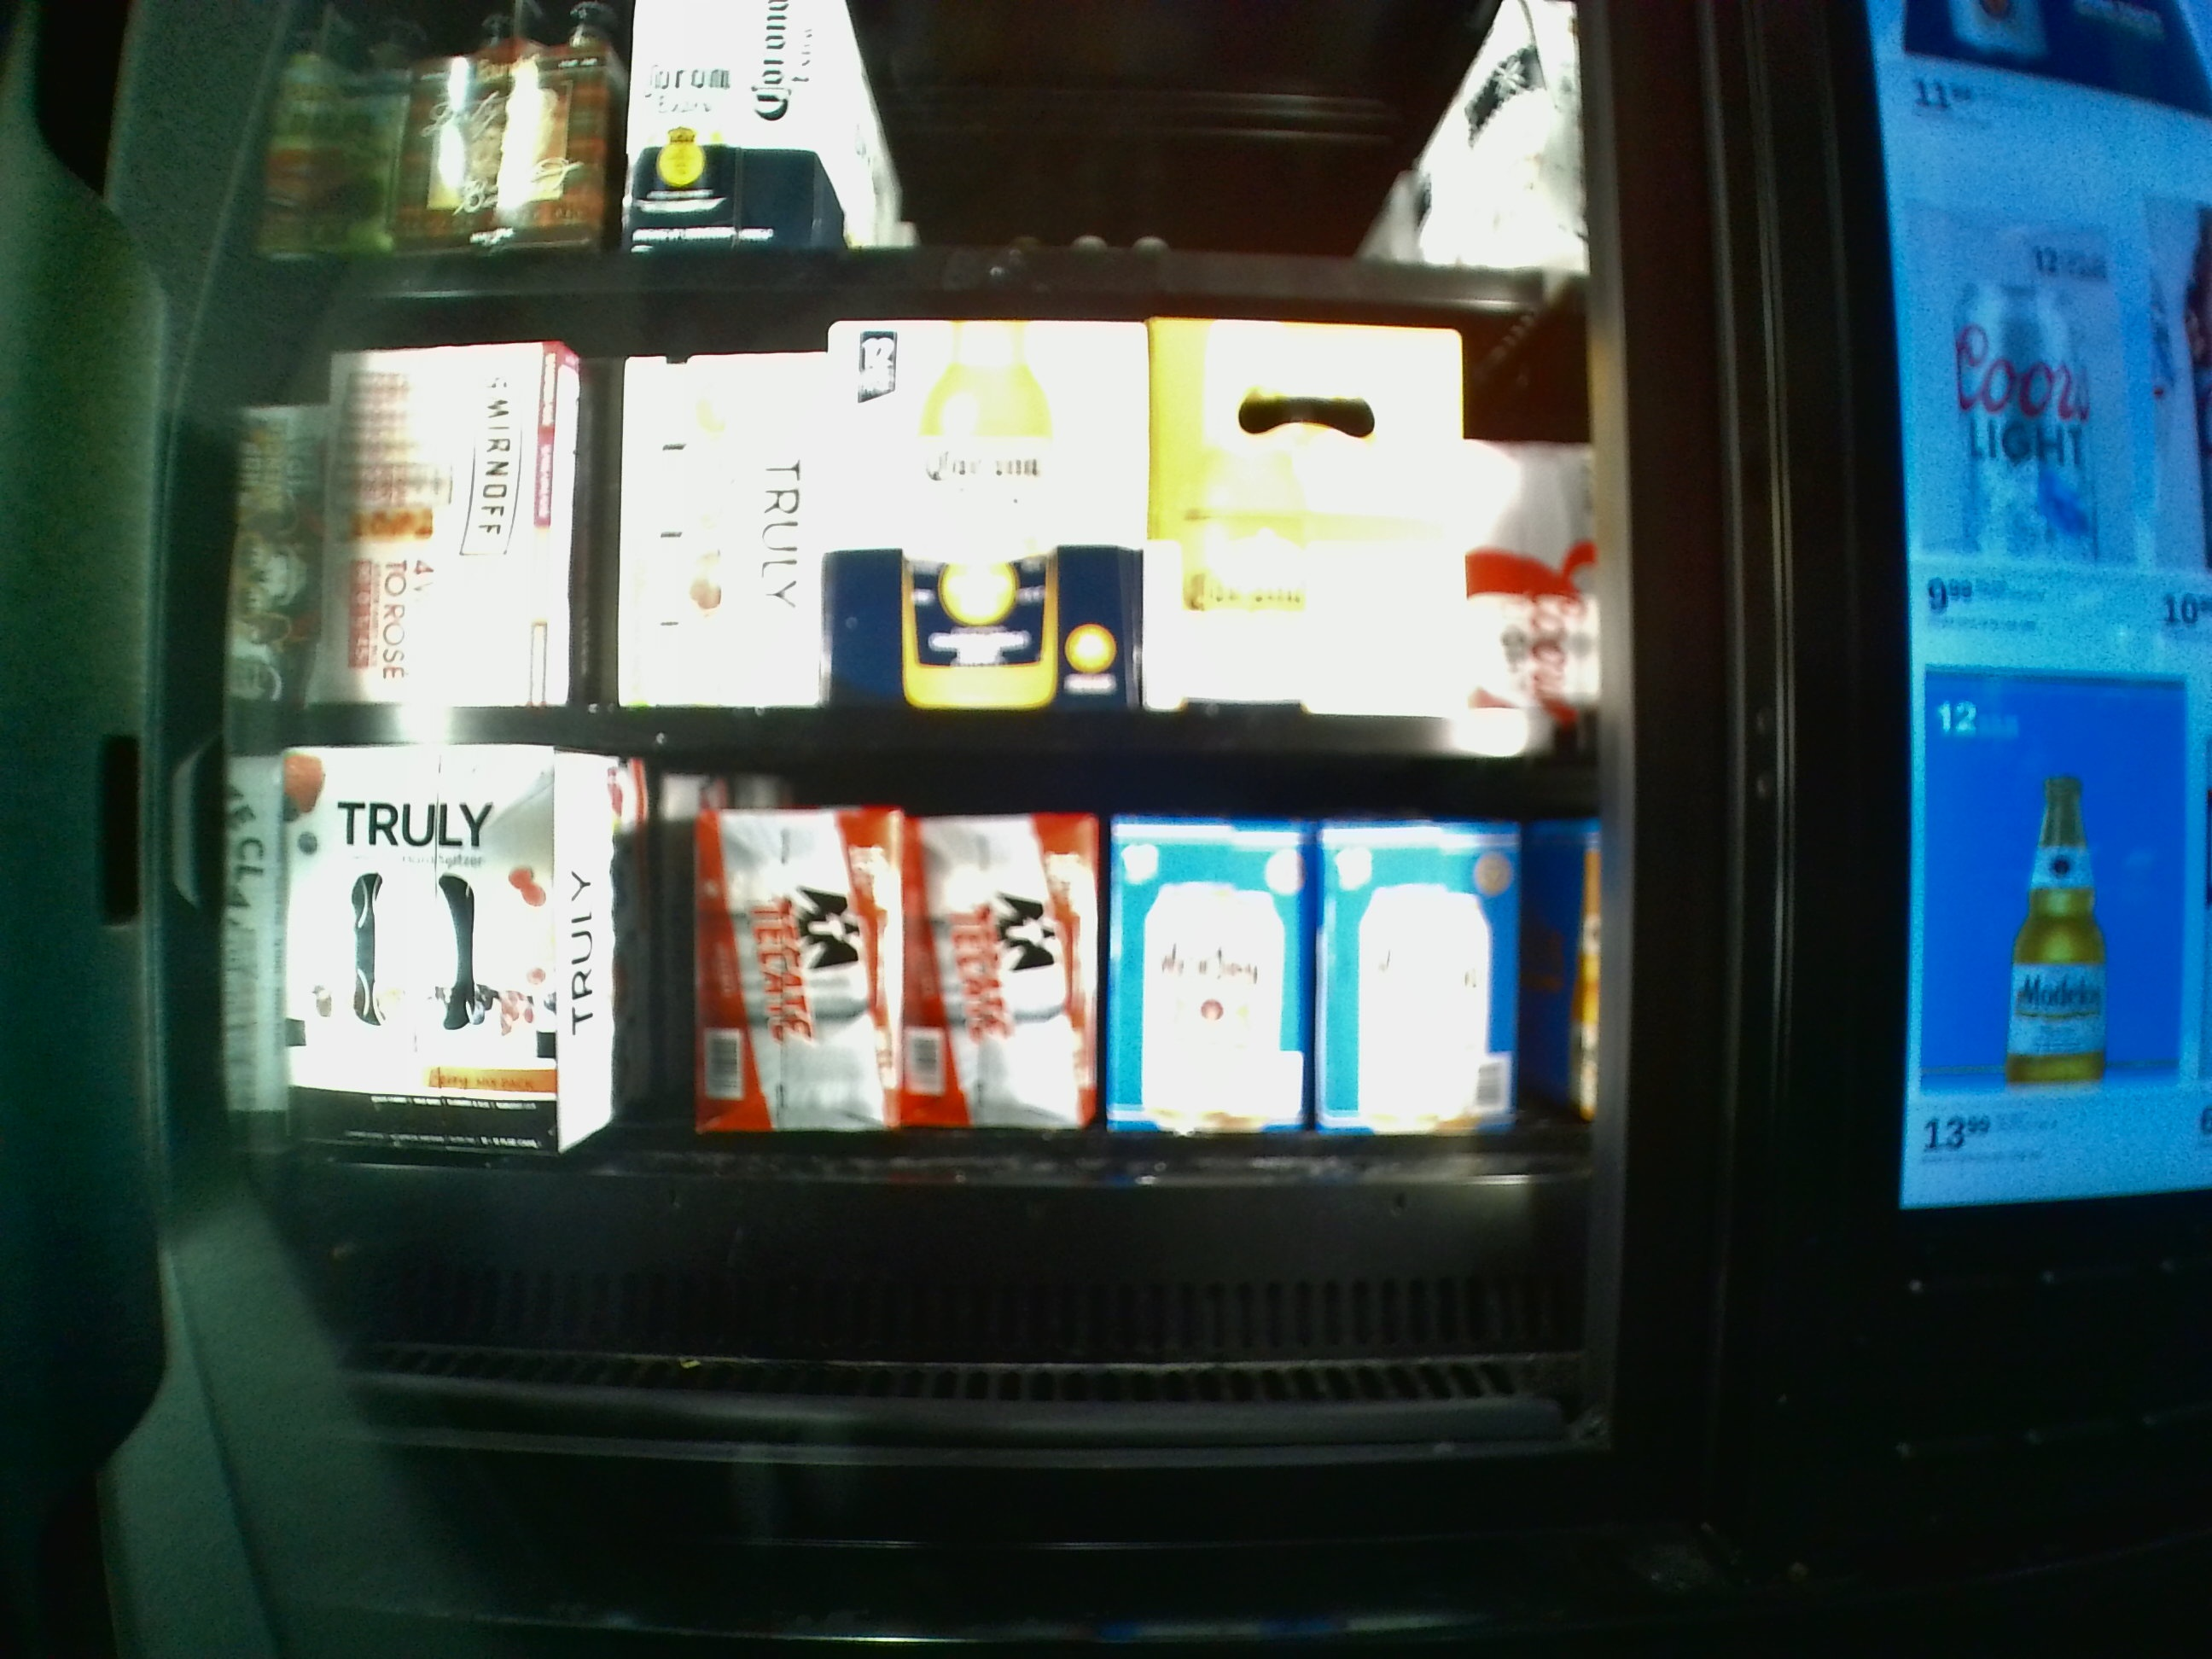shelf: (228, 772, 1594, 1419), (233, 300, 1588, 751)
